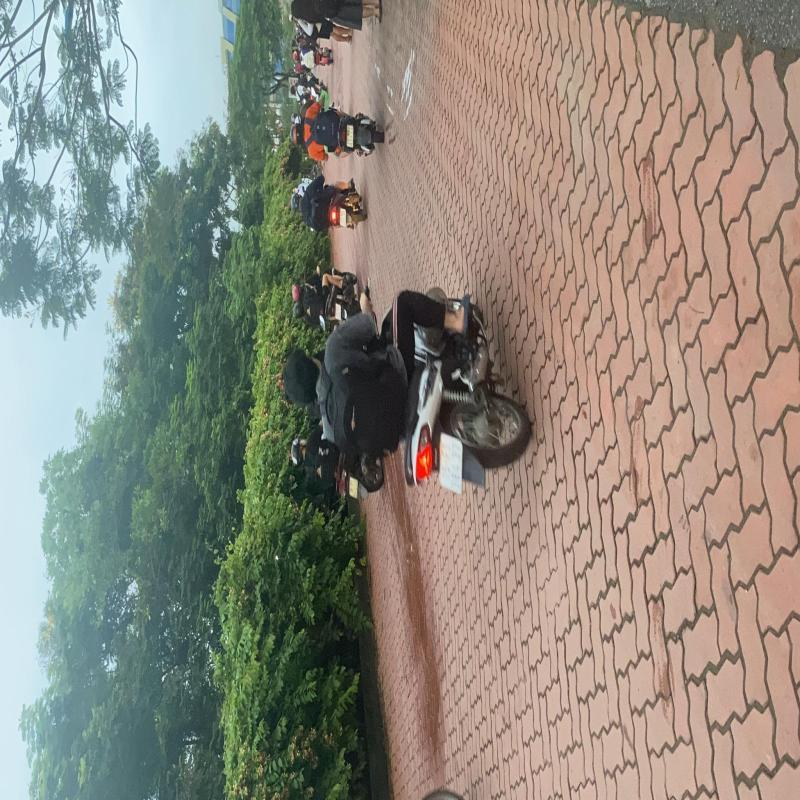licenseplate: (172, 780, 205, 800)
motorcyclist: (169, 497, 294, 800)
nohelmet: (222, 501, 254, 572)
